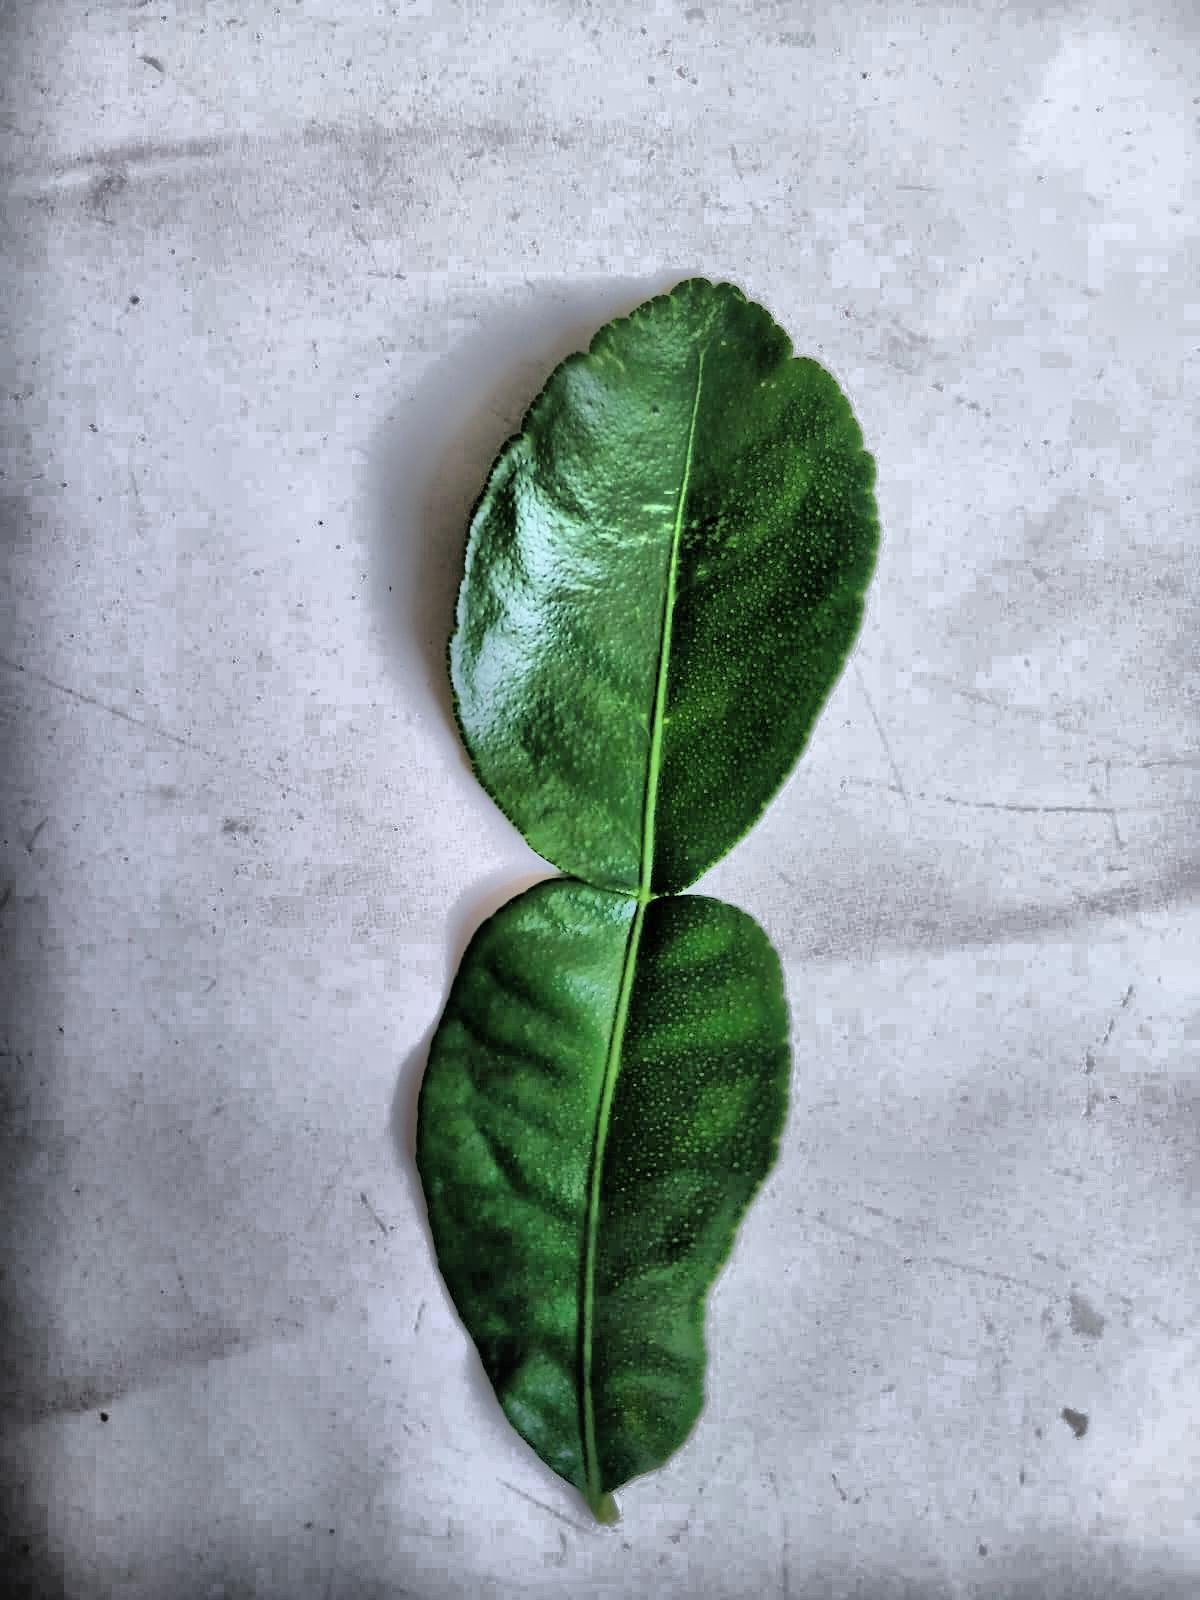daun jeruk: (415, 278, 879, 1521)
